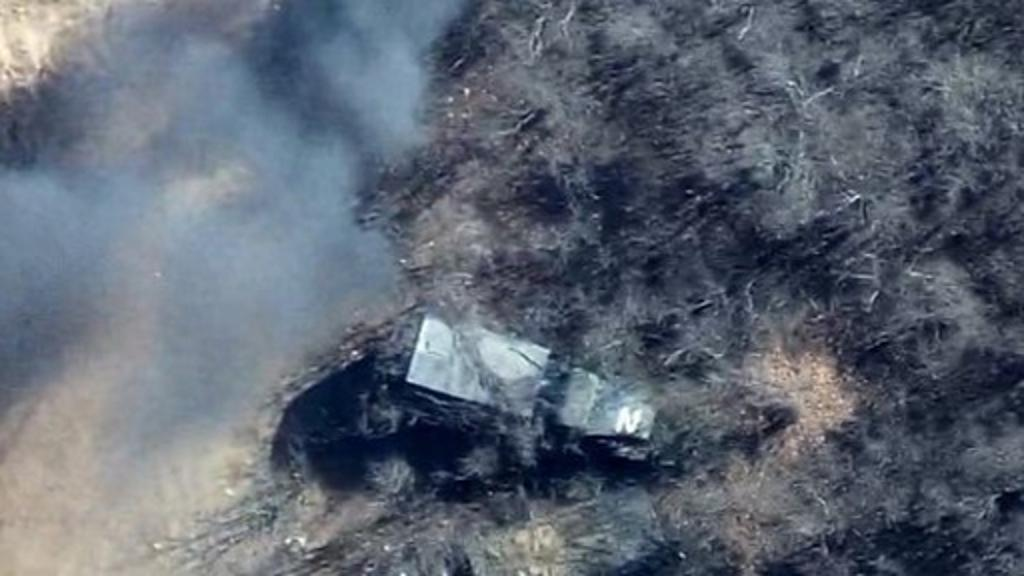TRUCK: (402, 308, 662, 474)
